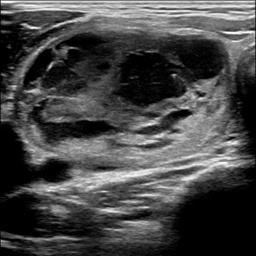mass: (15, 28, 234, 158)
